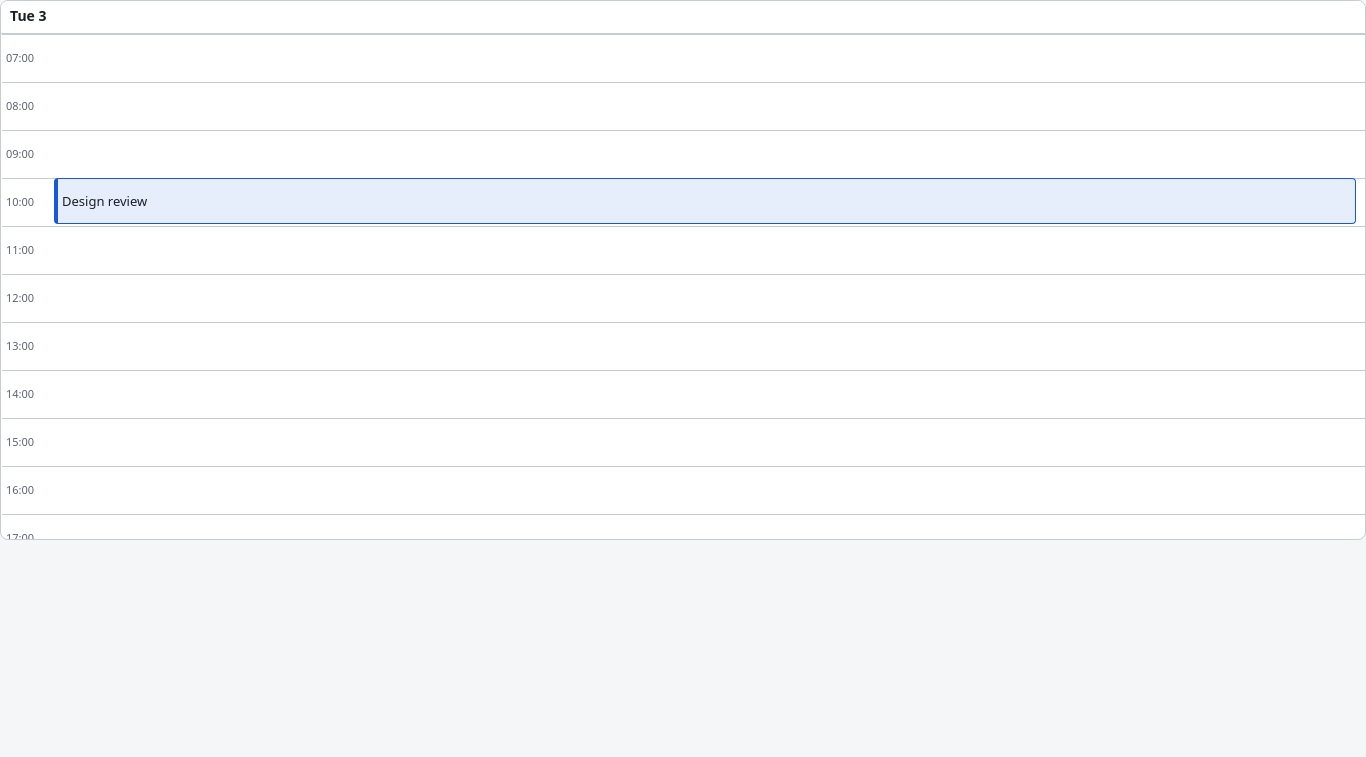
Scenario: Calendar: dragging an event › treats a press with no movement as a click, which opens the form
(page scrolled)
Click the button with aria-label "Design review,": (105, 201) x1=54 y1=178 x2=1356 y2=224
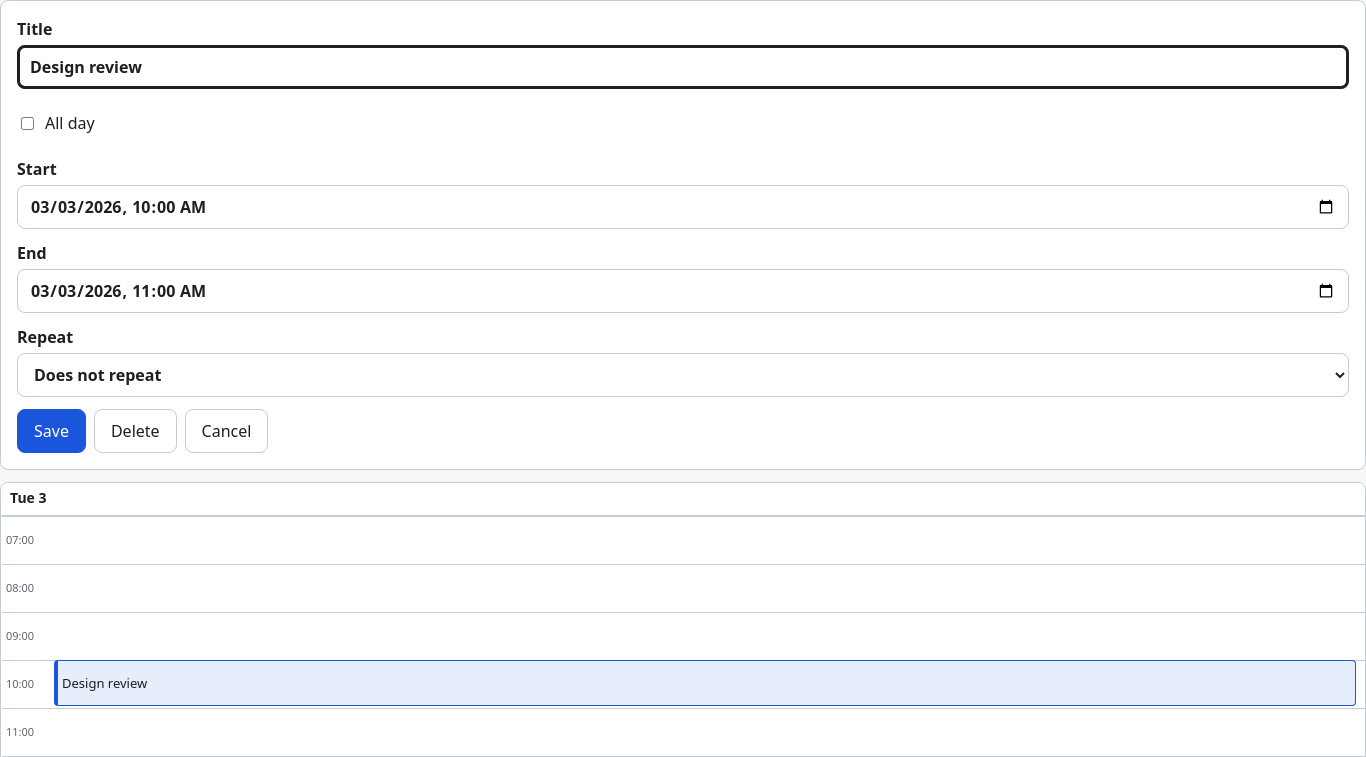
Result: the form named "Edit event" is shown
